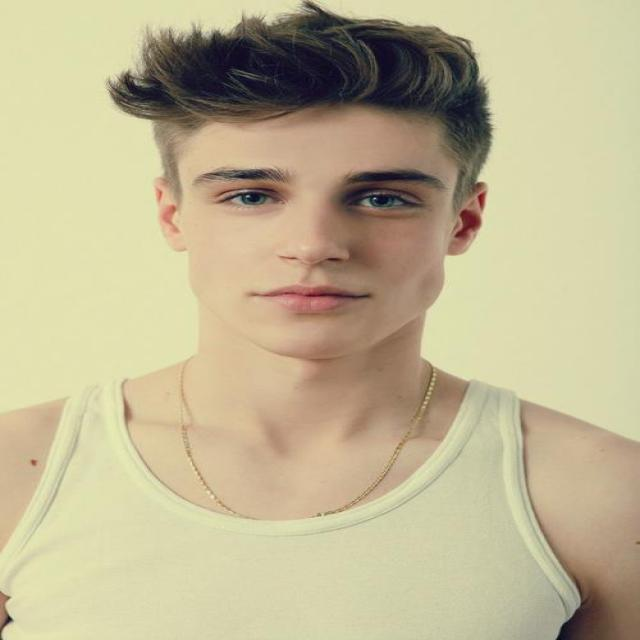front: (128, 126, 512, 358)
